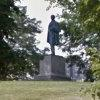Statue: (39, 13, 71, 61)
